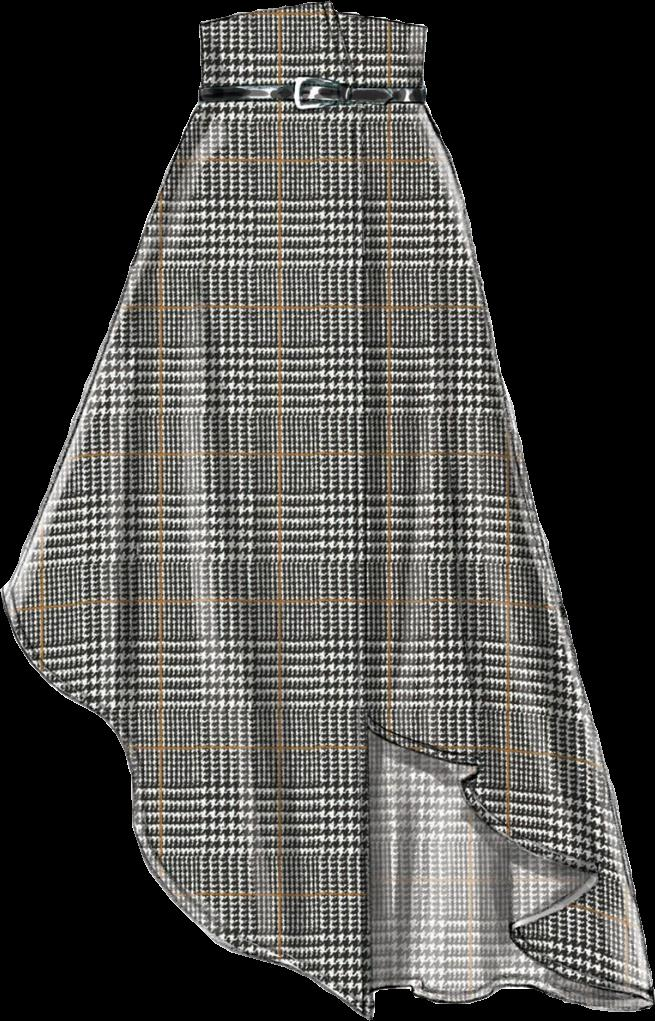Hemline: (0, 583, 654, 1020)
Waistline: (195, 0, 431, 40), (192, 90, 435, 112)
